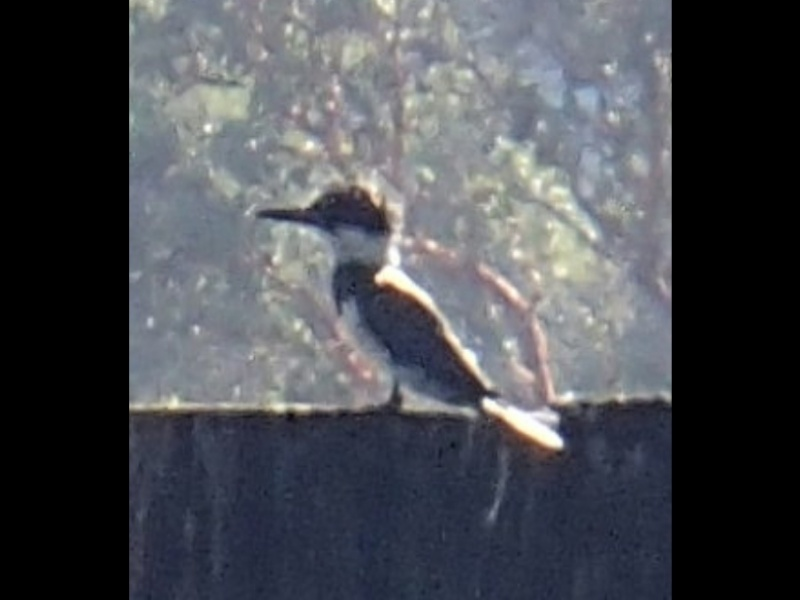kingfisher: (256, 182, 565, 458)
